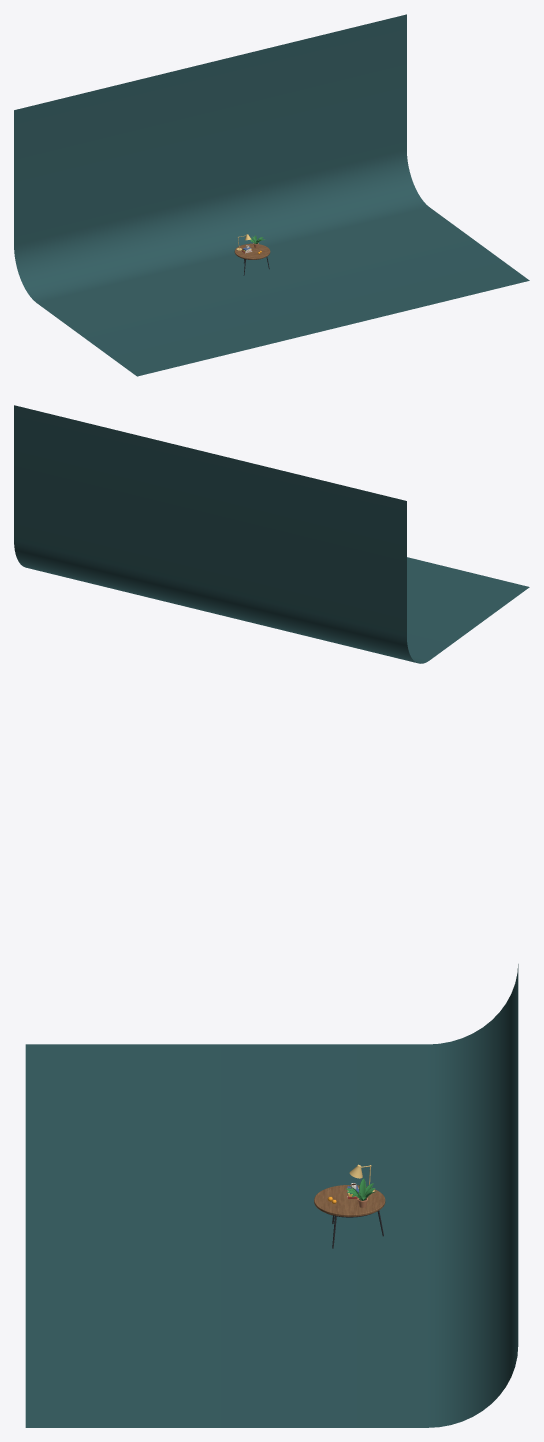
The picture shows the model from 3 angles, top to bottom: view 1: azimuth 30°, elevation 25°; view 2: azimuth 150°, elevation 25°; view 3: azimuth 270°, elevation 25°; orthographic projection. The views are drawn at different scales.
Visible parts, largest first — view 1: s1_v1; view 2: s1_v1; view 3: s1_v1.
Part boxes in pixels (x1=…): s1_v1: x1=14, y1=14, x2=529, y2=376; s1_v1: x1=14, y1=405, x2=529, y2=663; s1_v1: x1=25, y1=964, x2=518, y2=1427.
Size of the model in its own units: 14 by 6 by 7.6.
17 materials, 1 textured.
